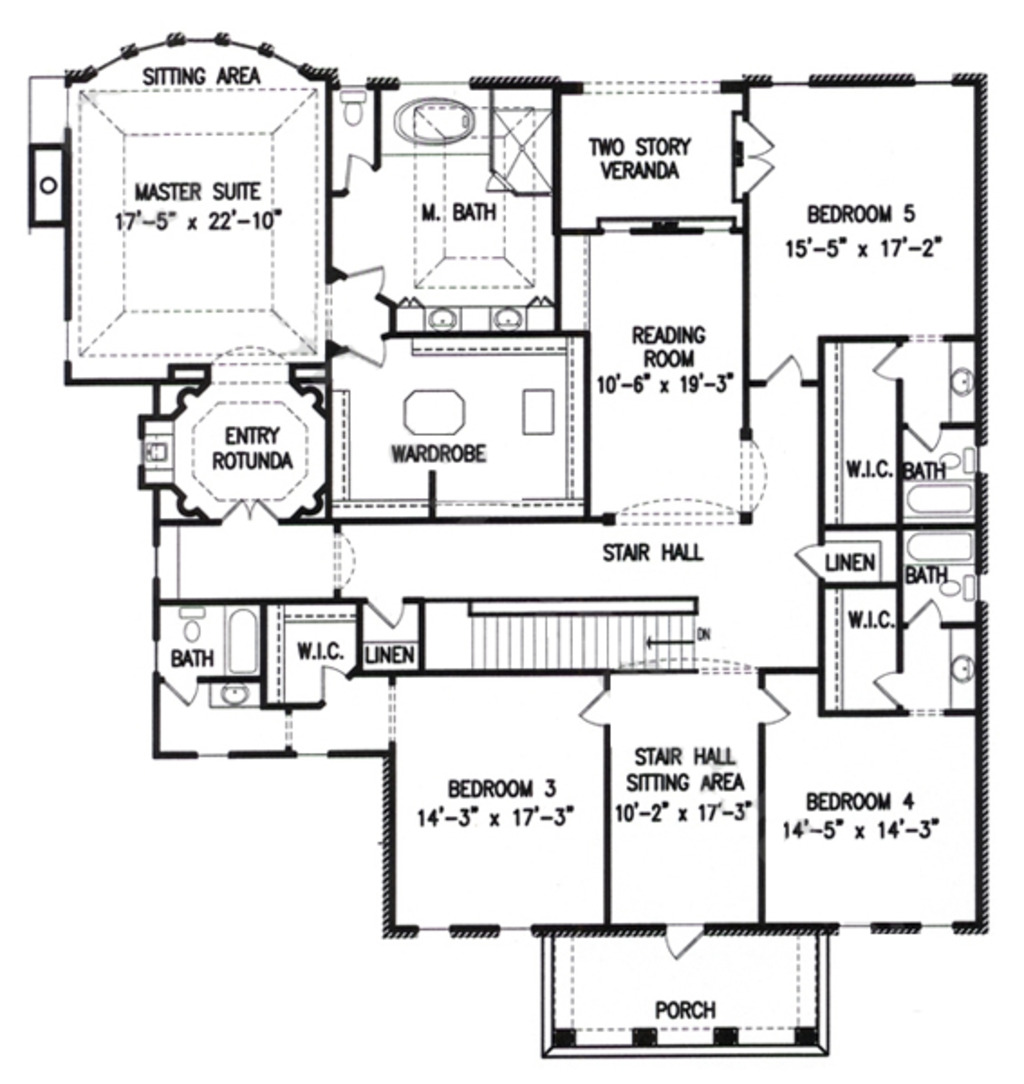door: (732, 119, 778, 195), (786, 542, 827, 592), (222, 495, 281, 529), (873, 337, 910, 387), (759, 680, 795, 731), (345, 256, 392, 295), (344, 333, 394, 369), (575, 682, 611, 730), (315, 658, 351, 704), (665, 923, 704, 963), (339, 148, 375, 191), (868, 668, 901, 714), (361, 599, 411, 628), (161, 673, 200, 710), (903, 418, 942, 453), (762, 357, 807, 387), (906, 597, 948, 626)
large_sink: (335, 89, 375, 130), (173, 604, 212, 645), (942, 443, 979, 477), (933, 575, 976, 601)
small_sink: (422, 302, 528, 333), (949, 627, 981, 711), (947, 337, 976, 419), (201, 684, 262, 709)
stairs: (453, 596, 708, 672)
tub: (377, 90, 497, 157), (219, 601, 268, 674), (905, 480, 977, 523), (896, 529, 975, 566)
window: (766, 73, 818, 94), (911, 73, 957, 89)
